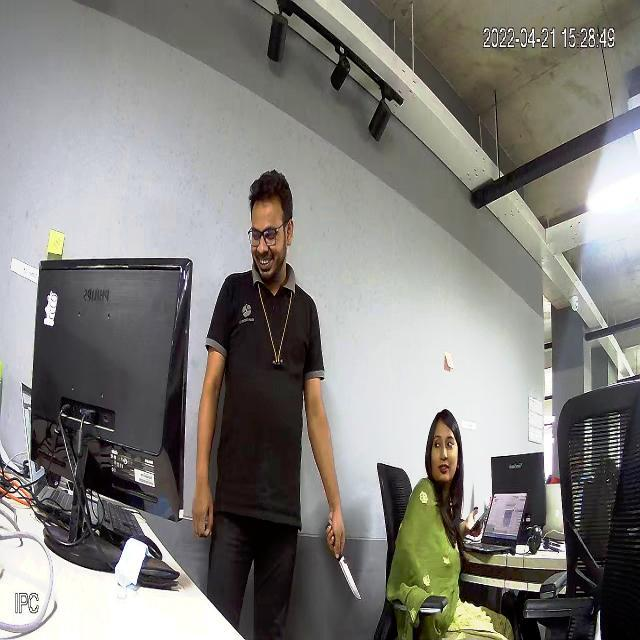Knife: (320, 527, 369, 603)
